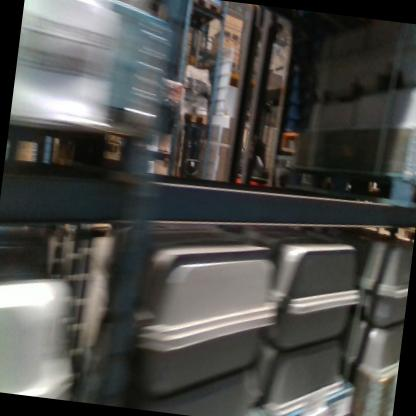pallet: (3, 112, 151, 185), (286, 156, 416, 212), (381, 221, 416, 244), (191, 0, 222, 16), (180, 109, 208, 126), (221, 29, 241, 42), (230, 60, 239, 71)
